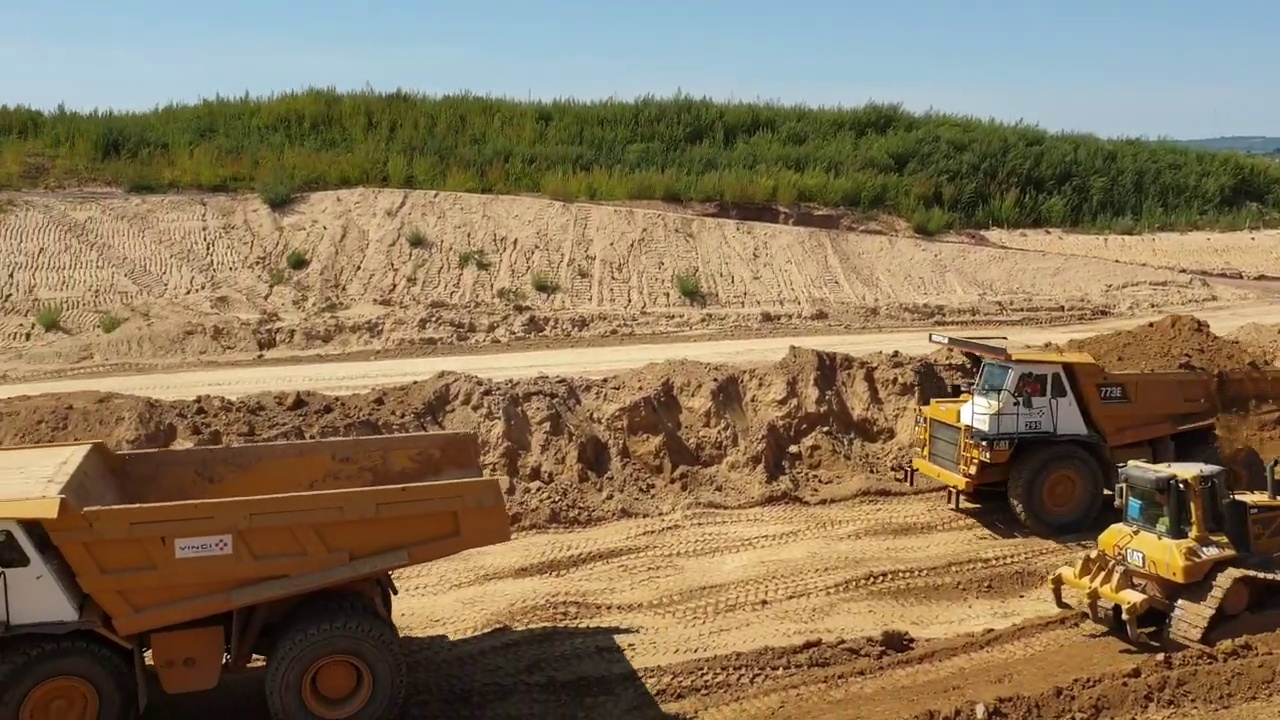bulldozer: (1050, 452, 1280, 667)
truck: (2, 424, 519, 720), (908, 320, 1280, 541)
